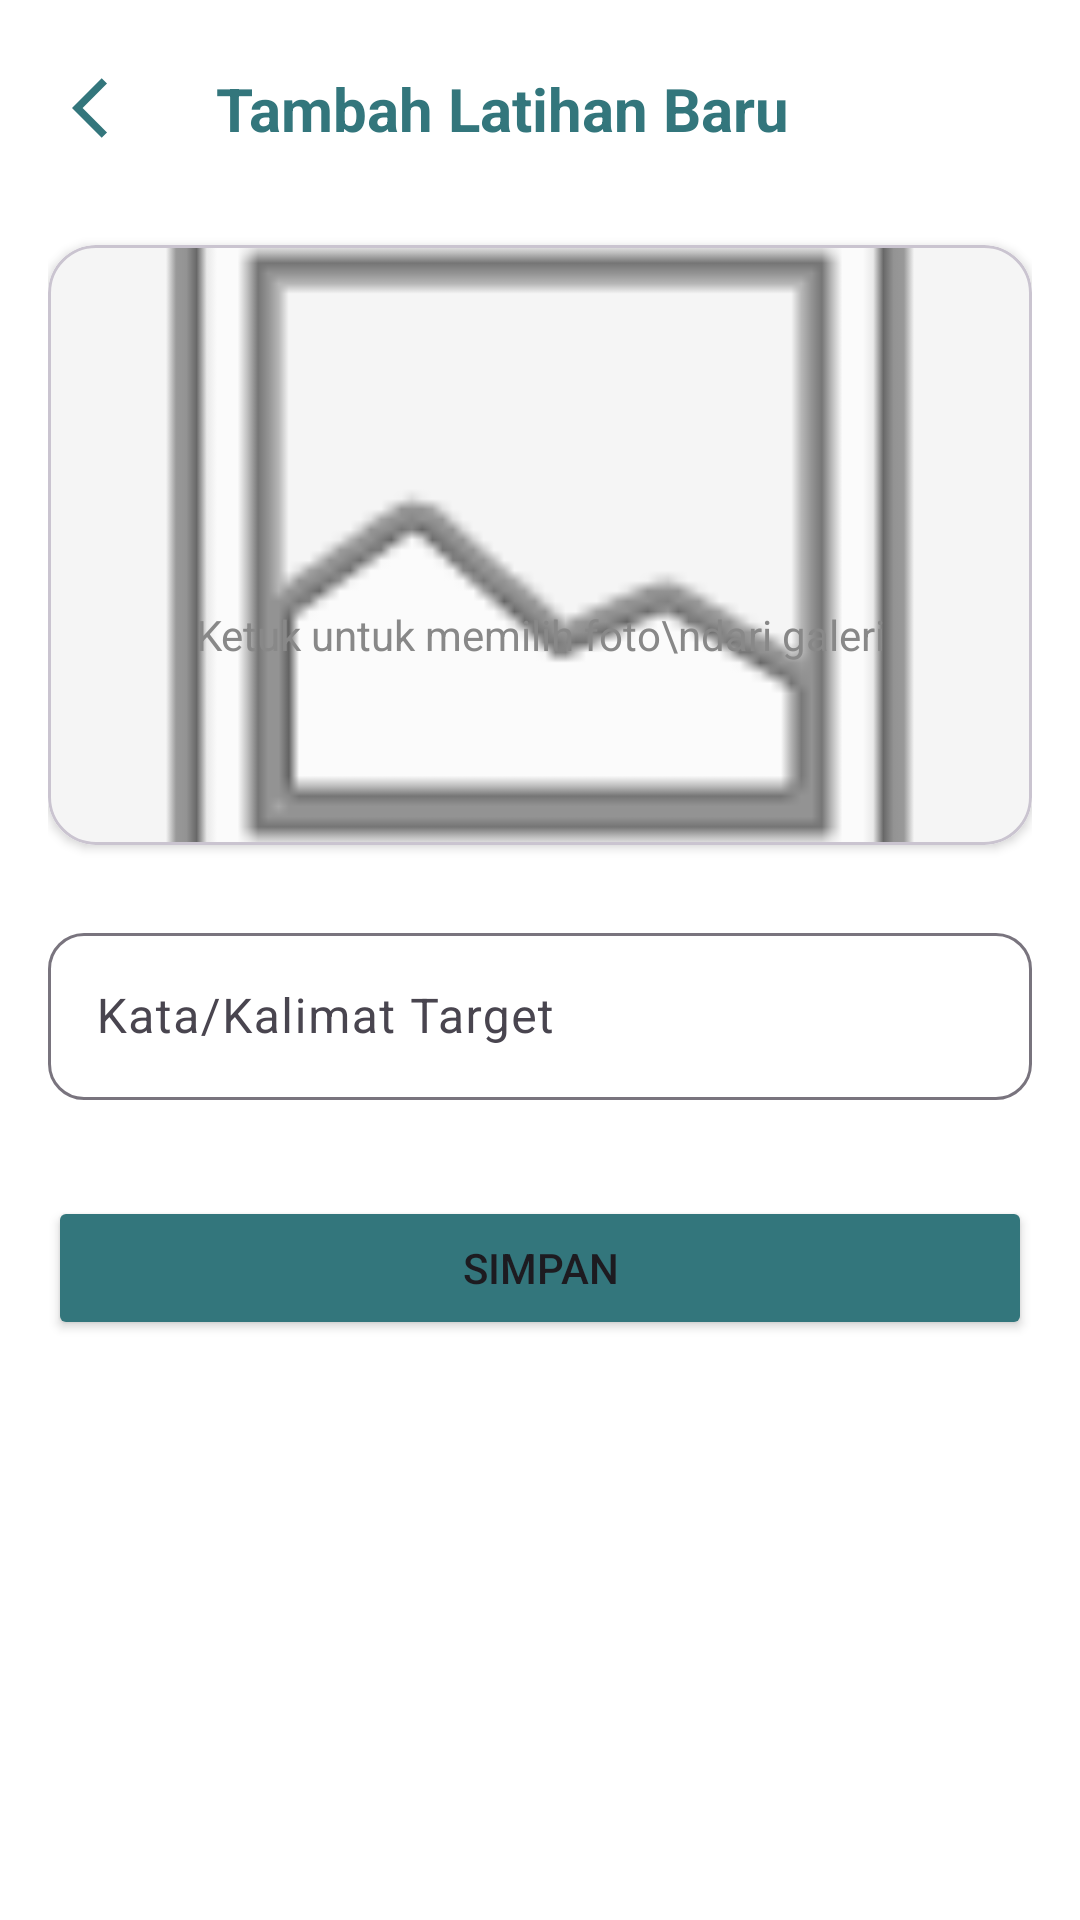

Locate icon controls on the screen. Image size 1080px x 1920px, boxes as {"left": x1, "top": y1, "right": x2, "bottom": y2}.
Back Button: {"left": 72, "top": 78, "right": 107, "bottom": 138}
